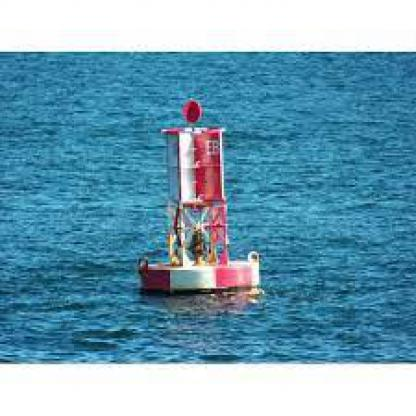buoy: (129, 79, 266, 296)
